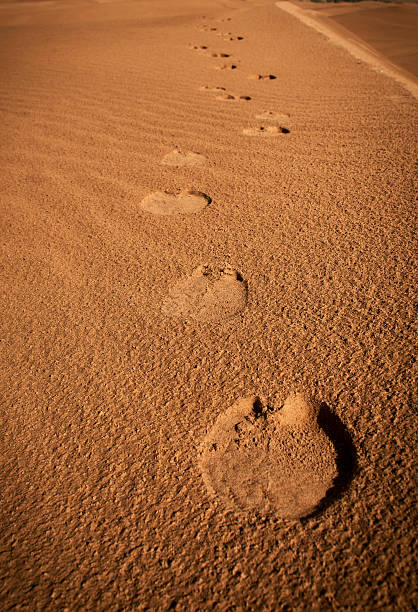animal_footprint: (198, 393, 337, 518), (162, 265, 246, 321), (140, 190, 210, 215), (161, 149, 205, 167), (243, 125, 289, 135)
